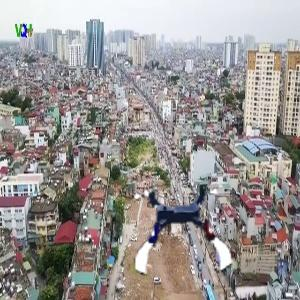drone: (132, 181, 235, 284)
